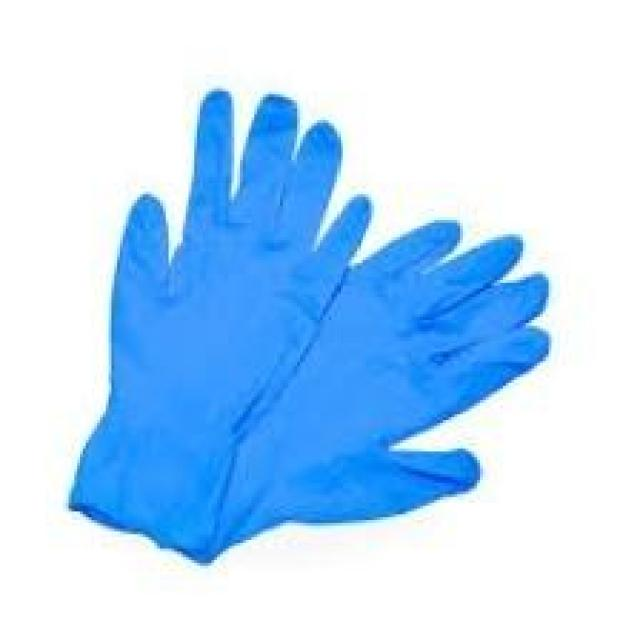Glove: (30, 80, 570, 586)
